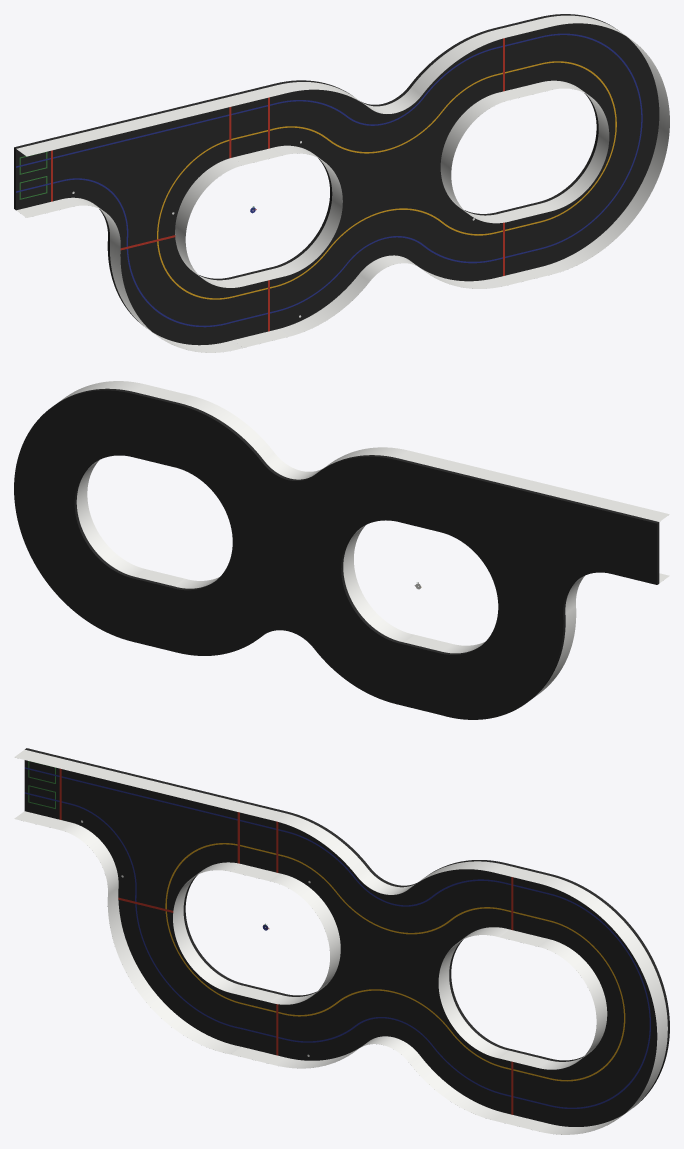
The model's file is Small 4-Way.obj.
3 views of the same model, one above another, from view 1: azimuth 30°, elevation 25°; view 2: azimuth 150°, elevation 25°; view 3: azimuth 330°, elevation 25° (orthographic).
Visible parts, largest first — view 1: Body1, Body1:2, Body1:1, Body3:1, Body4, Body2, Body5, Body3, Body2:2, Body3:2, Body2:1, Body4:1; view 2: Body1, Body1:2, Body1:1, Body4, Body2:2, Body3, Body2:1, Body3:2, Body5, Body3:1; view 3: Body1, Body1:2, Body1:1, Body3:2, Body3:1, Body2, Body4, Body5, Body3, Body2:2, Body2:1, Body4:1.
Part boxes in pixels (x1=…): Body1: x1=231, y1=17, x2=539, y2=339; Body1:2: x1=14, y1=94, x2=232, y2=345; Body1:1: x1=538, y1=14, x2=659, y2=266; Body3:1: x1=540, y1=15, x2=669, y2=274; Body4: x1=233, y1=19, x2=549, y2=113; Body2: x1=233, y1=255, x2=549, y2=347; Body5: x1=440, y1=82, x2=549, y2=223; Body3: x1=233, y1=145, x2=342, y2=286; Body2:2: x1=16, y1=96, x2=242, y2=156; Body3:2: x1=16, y1=197, x2=242, y2=352; Body2:1: x1=540, y1=80, x2=609, y2=211; Body4:1: x1=175, y1=157, x2=243, y2=287; Body1: x1=133, y1=392, x2=441, y2=714; Body1:2: x1=440, y1=469, x2=659, y2=719; Body1:1: x1=14, y1=388, x2=134, y2=641; Body4: x1=136, y1=384, x2=452, y2=479; Body2:2: x1=443, y1=461, x2=669, y2=521; Body3: x1=343, y1=525, x2=452, y2=651; Body2:1: x1=76, y1=460, x2=145, y2=576; Body3:2: x1=532, y1=573, x2=669, y2=698; Body5: x1=136, y1=569, x2=219, y2=588; Body3:1: x1=58, y1=381, x2=145, y2=402; Body1: x1=241, y1=801, x2=549, y2=1123; Body1:2: x1=24, y1=748, x2=242, y2=1046; Body1:1: x1=548, y1=874, x2=669, y2=1126; Body3:2: x1=14, y1=811, x2=240, y2=1054; Body3:1: x1=538, y1=875, x2=667, y2=1134; Body2: x1=231, y1=1036, x2=547, y2=1131; Body4: x1=231, y1=802, x2=547, y2=894; Body5: x1=438, y1=927, x2=547, y2=1067; Body3: x1=231, y1=864, x2=340, y2=1004; Body2:2: x1=14, y1=749, x2=240, y2=810; Body2:1: x1=538, y1=939, x2=607, y2=1069; Body4:1: x1=173, y1=862, x2=240, y2=992.
Bounding box in the file's own units: 8.89 × 3.28 × 0.3048.
